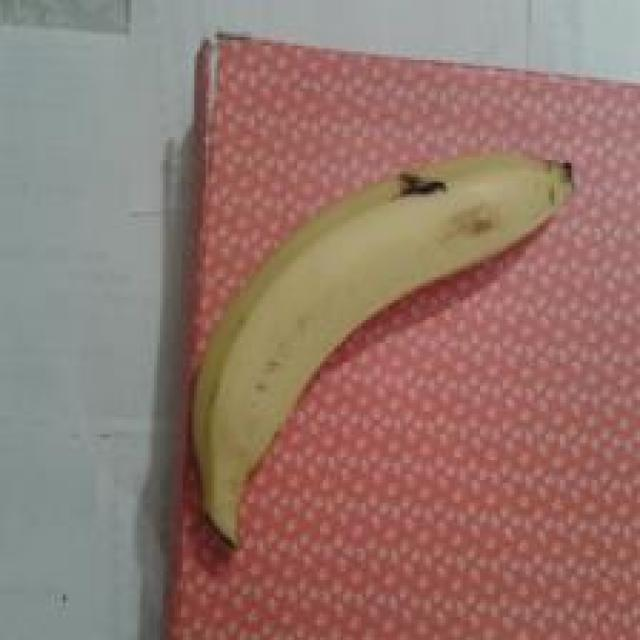banana: (135, 87, 618, 577)
